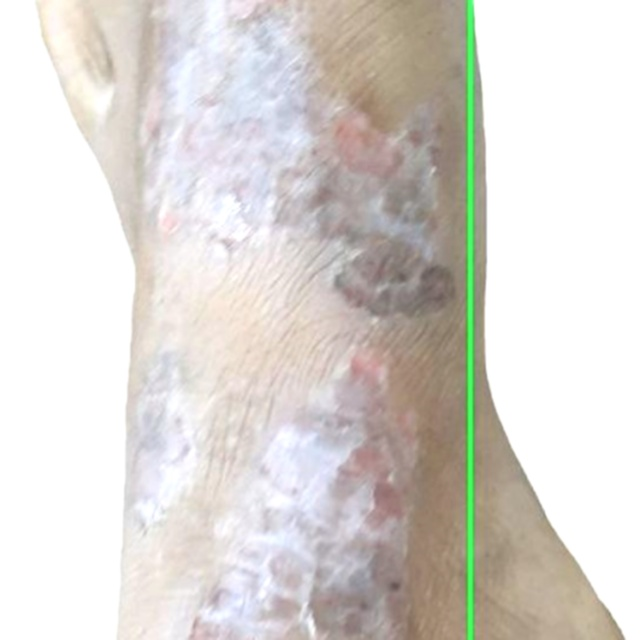Contact Dermatitis: (470, 0, 639, 639)
